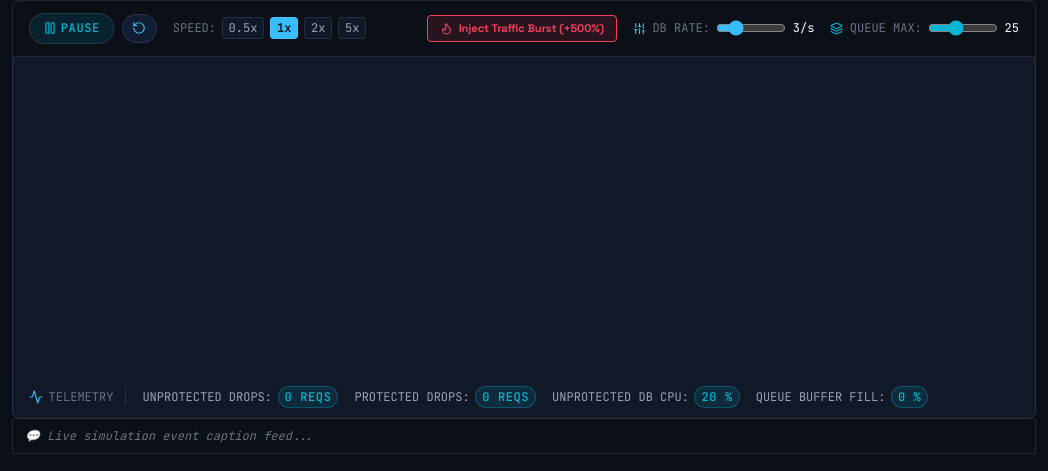
Test: LoadLevelingVisualizer (Catalog Viz #8) › allows adjusting DB processing rate slider
Set the slider showing "3" next to "DB RATE:" to "6" at coordinates (754, 28), box [716,20,786,36]
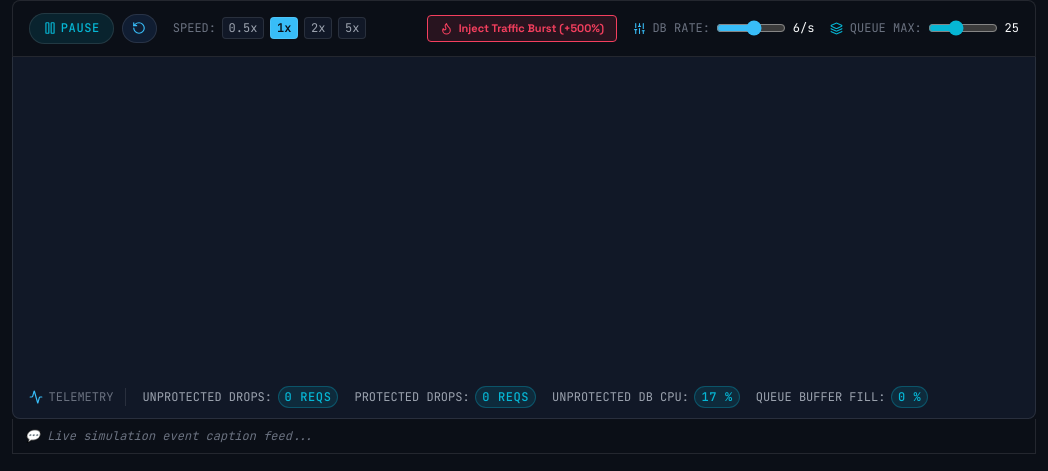
Now the text "6/s" is shown, box [793,19,814,37]
